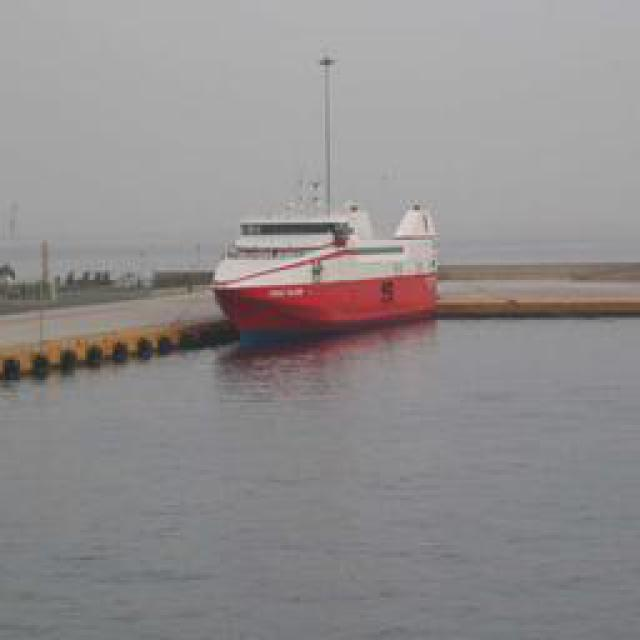Ship: (209, 206, 442, 341)
